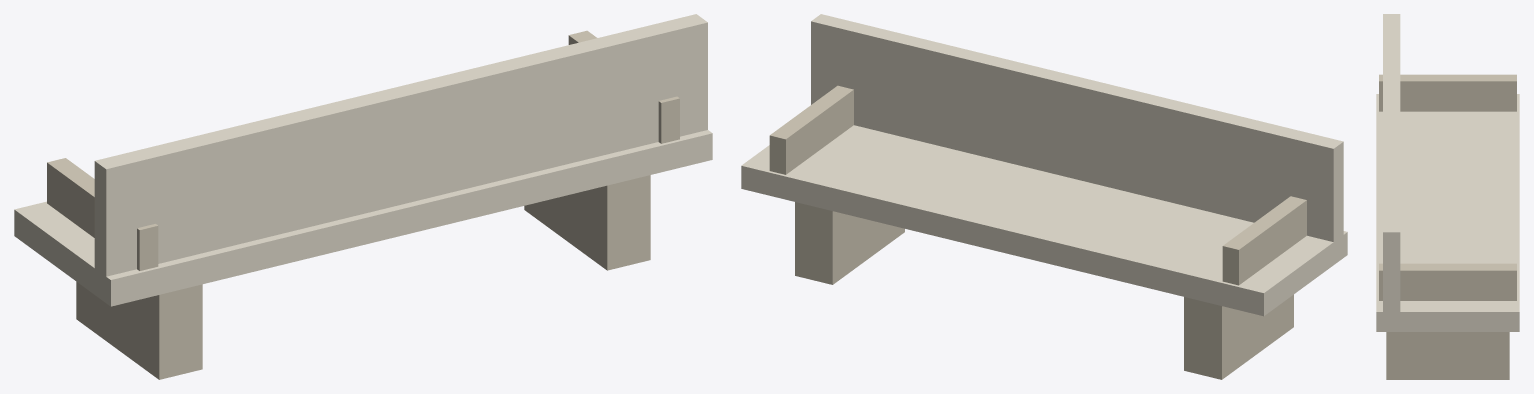
The model's file is VIC_G02_STONE_BENCH_Roblox.fbx.
3 views of the same model, side by side, from view 1: azimuth 30°, elevation 25°; view 2: azimuth 150°, elevation 25°; view 3: azimuth 270°, elevation 25° (orthographic). The views are drawn at different scales.
Parts seen in each view (by area): view 1: VIC_G02_STONE_BENCH__Ivory, VIC_G02_STONE_BENCH__Stone; view 2: VIC_G02_STONE_BENCH__Ivory, VIC_G02_STONE_BENCH__Stone; view 3: VIC_G02_STONE_BENCH__Ivory, VIC_G02_STONE_BENCH__Stone.
Boxes of the visible parts, box(x1,y1,x2,y2) form: VIC_G02_STONE_BENCH__Ivory: box(14, 14, 712, 306); VIC_G02_STONE_BENCH__Stone: box(47, 30, 679, 379); VIC_G02_STONE_BENCH__Ivory: box(741, 14, 1347, 316); VIC_G02_STONE_BENCH__Stone: box(769, 85, 1306, 379); VIC_G02_STONE_BENCH__Ivory: box(1376, 14, 1519, 331); VIC_G02_STONE_BENCH__Stone: box(1379, 74, 1516, 379).
Size of the model in its own units: 9 by 3.23 by 2.5.
